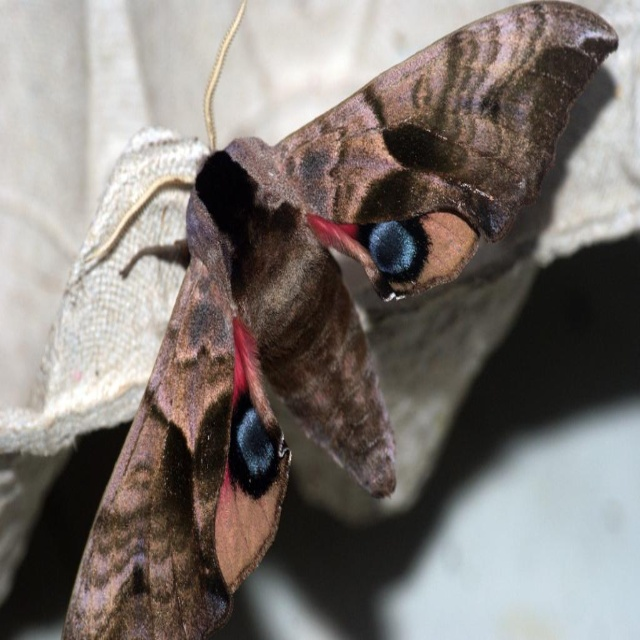Butterfly: (73, 17, 630, 551)
